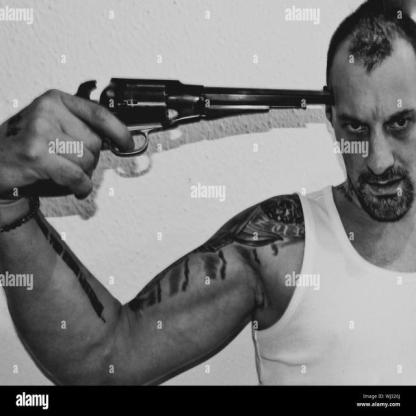handgun: (101, 78, 333, 154)
